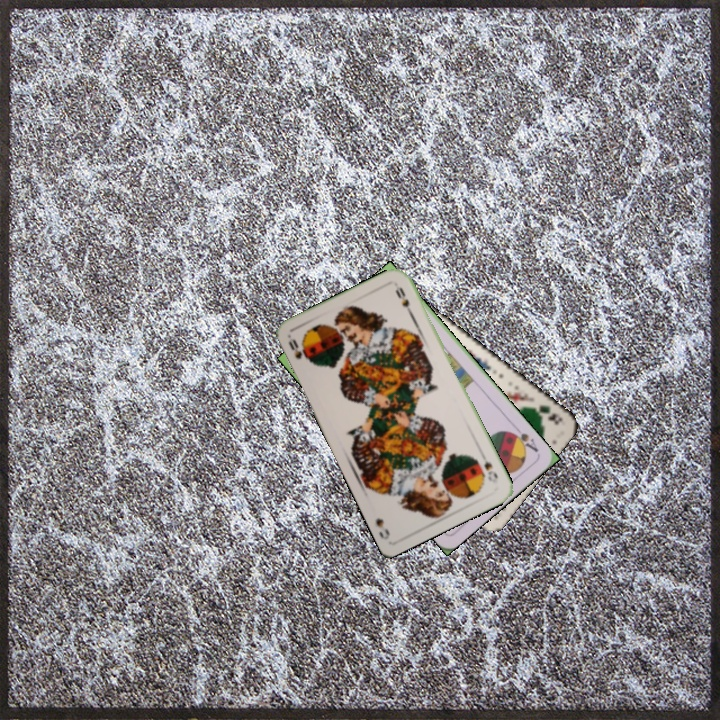GK: (526, 401, 565, 428)
SA: (506, 422, 541, 455)
SO: (284, 335, 313, 365), (480, 456, 501, 485)
